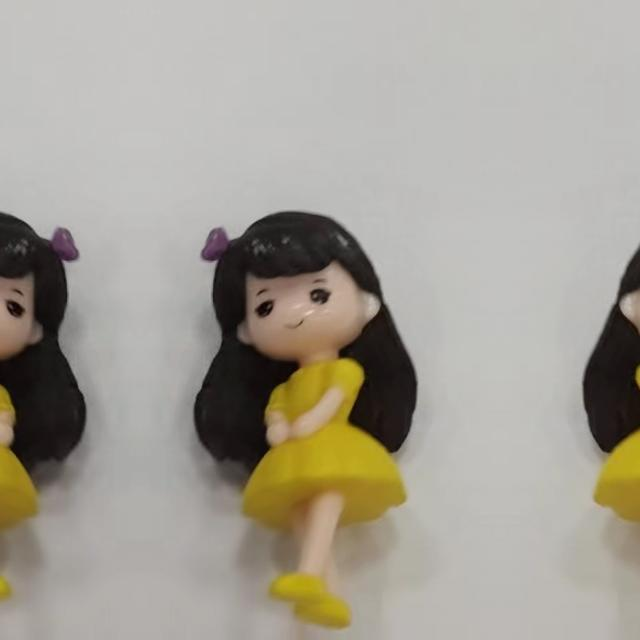woman dress: (238, 363, 414, 531), (586, 363, 640, 531), (0, 363, 42, 531)
woman head: (196, 212, 394, 356), (0, 211, 84, 356), (605, 211, 640, 356)
